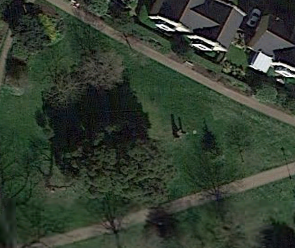tree: (63, 128, 178, 205), (75, 40, 131, 94), (35, 59, 86, 109), (193, 135, 228, 164)
